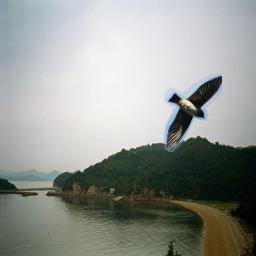Swallow: (164, 74, 222, 152)
